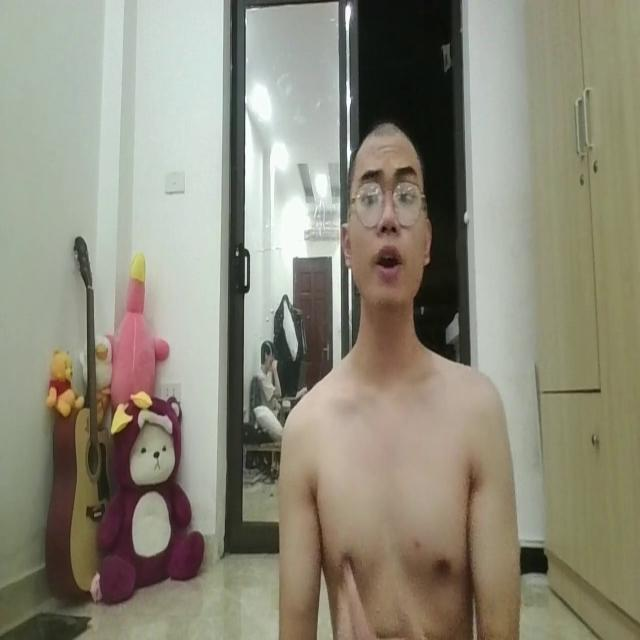student: (266, 126, 534, 640)
